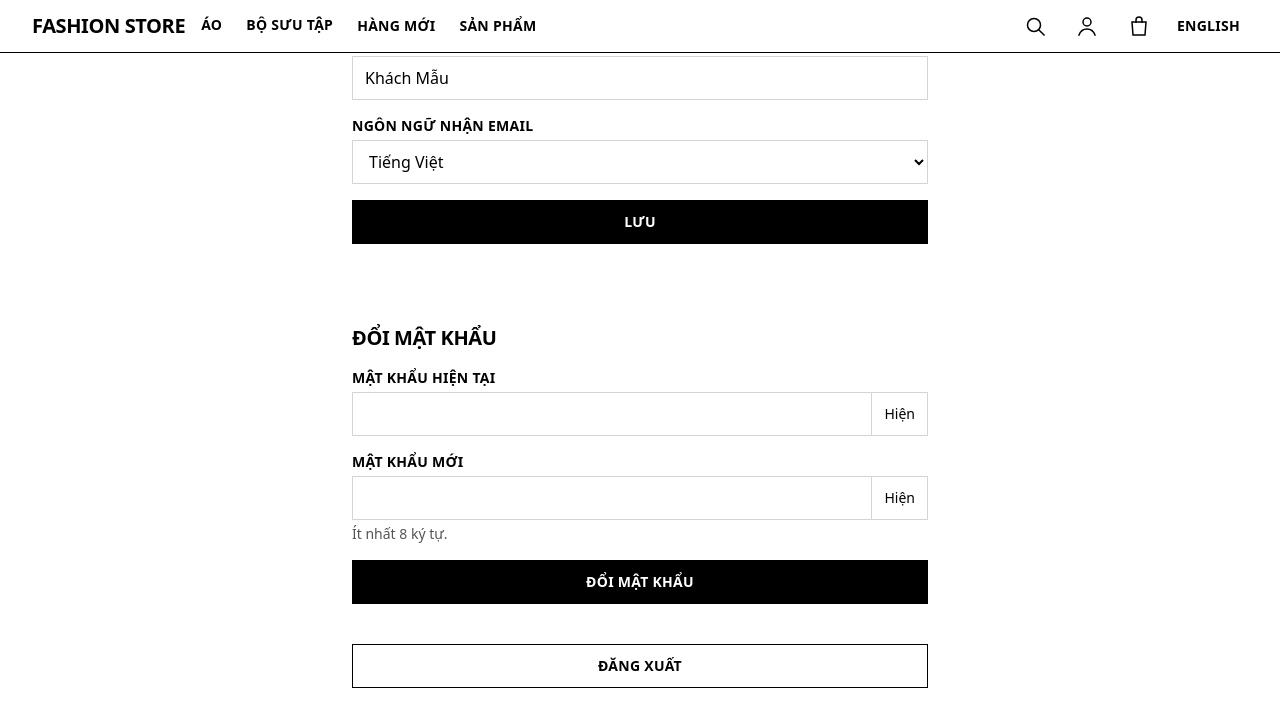
Test: a failed sign out keeps the member signed in and says so (final review)
(page scrolled)
Click the button "Đăng xuất": (640, 666) [352,644,928,688]
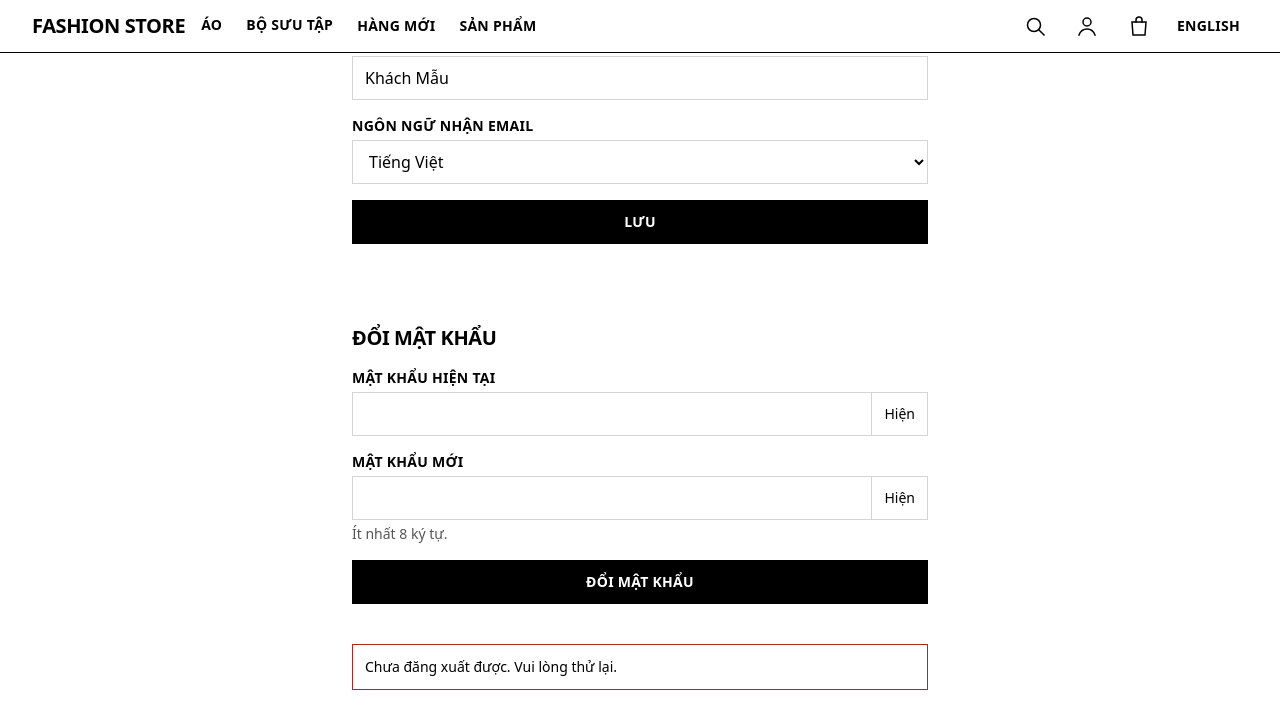
Check: the link to "/account" is shown, box [1075,14,1099,38]
Check: the message "Chưa đăng xuất được. Vui lòng thử lại." is shown, box [352,644,928,690]
